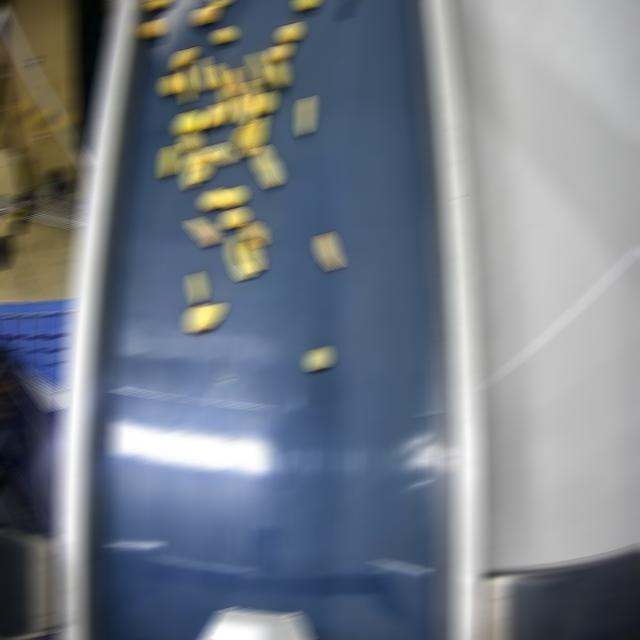Baby Potato: (227, 232, 254, 279), (253, 147, 280, 187), (185, 303, 222, 332), (240, 117, 265, 157), (315, 232, 340, 270), (187, 216, 218, 246), (181, 148, 204, 188), (304, 344, 334, 372), (231, 95, 254, 127), (240, 241, 261, 272), (201, 102, 224, 129), (176, 112, 203, 135), (193, 151, 212, 183), (248, 53, 267, 85), (297, 95, 312, 135), (208, 142, 233, 165), (220, 207, 247, 228), (160, 144, 177, 177), (241, 223, 264, 247), (226, 66, 243, 97), (173, 48, 196, 70), (200, 190, 225, 210), (197, 57, 212, 90), (179, 66, 192, 103), (189, 271, 204, 303), (255, 90, 274, 115), (266, 43, 289, 63), (269, 61, 286, 88), (231, 126, 250, 150), (221, 85, 232, 126), (223, 186, 244, 207), (179, 131, 200, 152), (279, 22, 300, 43), (191, 8, 218, 24), (247, 81, 260, 114), (161, 73, 180, 95), (209, 65, 226, 89), (143, 18, 162, 38), (213, 26, 234, 43), (147, 0, 170, 10), (296, 0, 317, 9), (211, 0, 230, 9)
